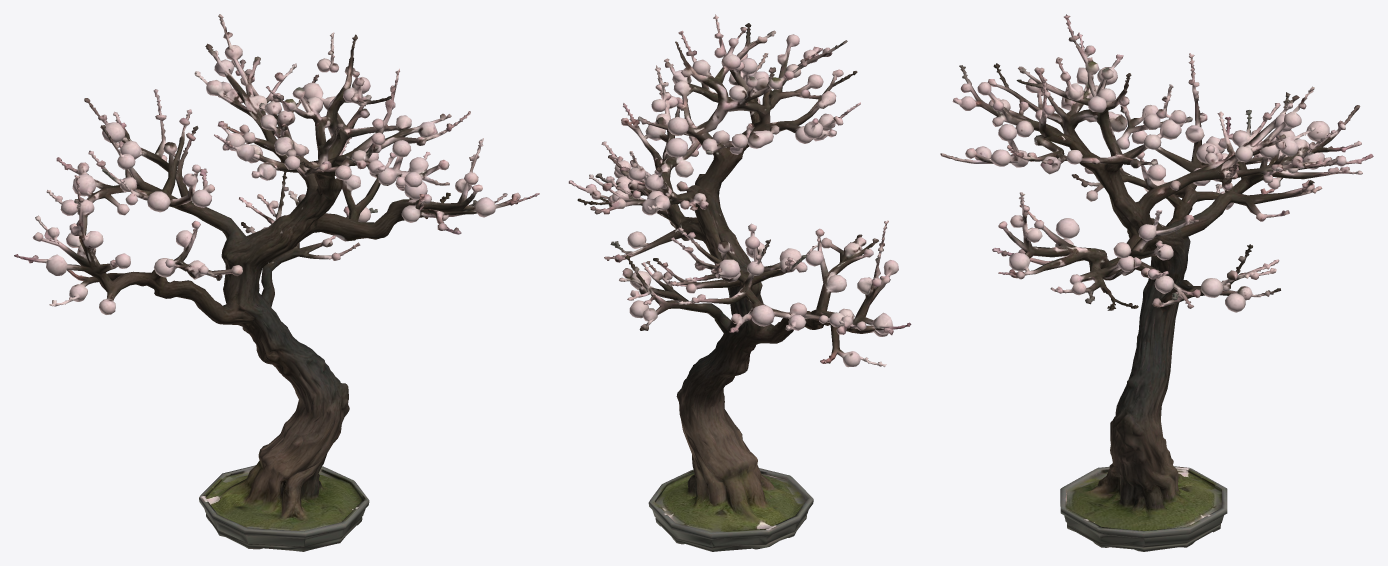
The model's file is plumTreeA.glb.
The picture shows the model from 3 angles, left to right: view 1: azimuth 30°, elevation 25°; view 2: azimuth 150°, elevation 25°; view 3: azimuth 270°, elevation 25°; orthographic projection. The views are drawn at different scales.
Parts seen in each view (by area): view 1: node_0; view 2: node_0; view 3: node_0.
Part boxes in pixels (bbox=[...]): node_0: bbox=[14, 14, 539, 551]; node_0: bbox=[568, 14, 911, 551]; node_0: bbox=[940, 14, 1373, 551].
Bounding box in the file's own units: 2.26 × 2.5 × 2.05.
Materials: 1 (1 with a texture image).
